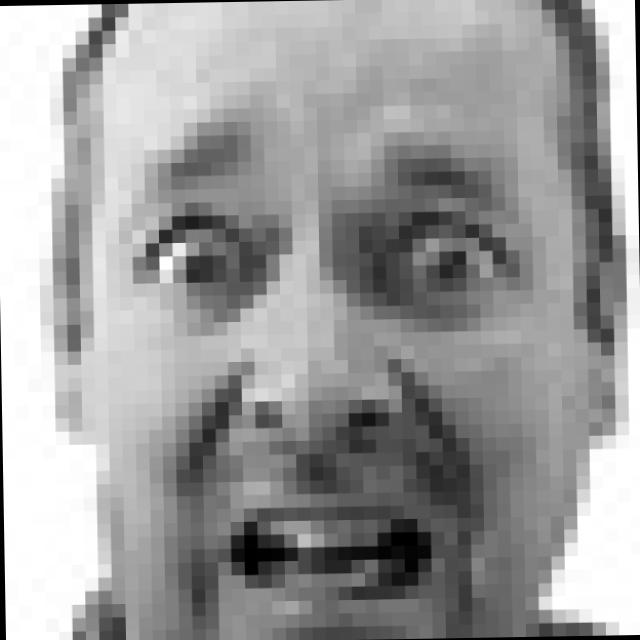fear: (104, 107, 531, 640)
